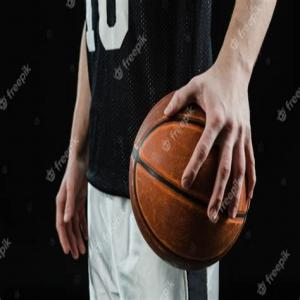Basket: (129, 88, 253, 272)
